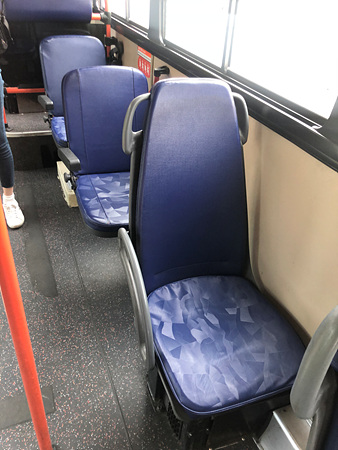seat: (121, 80, 296, 408)
